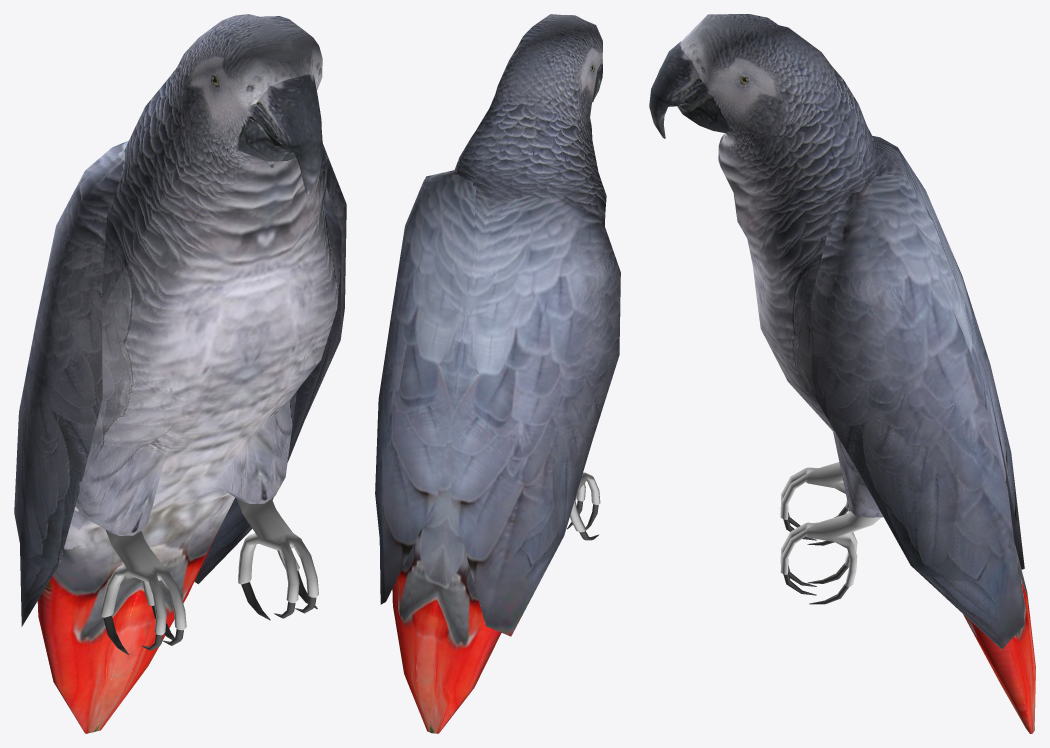
File: parrot.obj
The picture shows the model from 3 angles, left to right: view 1: azimuth 30°, elevation 25°; view 2: azimuth 150°, elevation 25°; view 3: azimuth 270°, elevation 25°; orthographic projection. The views are drawn at different scales.
Parts seen in each view (by area): view 1: obj2; view 2: obj2; view 3: obj2.
Part boxes in pixels (x1,y1,x2,y2): obj2: [14, 14, 346, 733]; obj2: [375, 14, 620, 733]; obj2: [649, 14, 1035, 733].
Bounding box in the file's own units: 78.78 × 216 × 107.
Materials: 1 (1 with a texture image).
